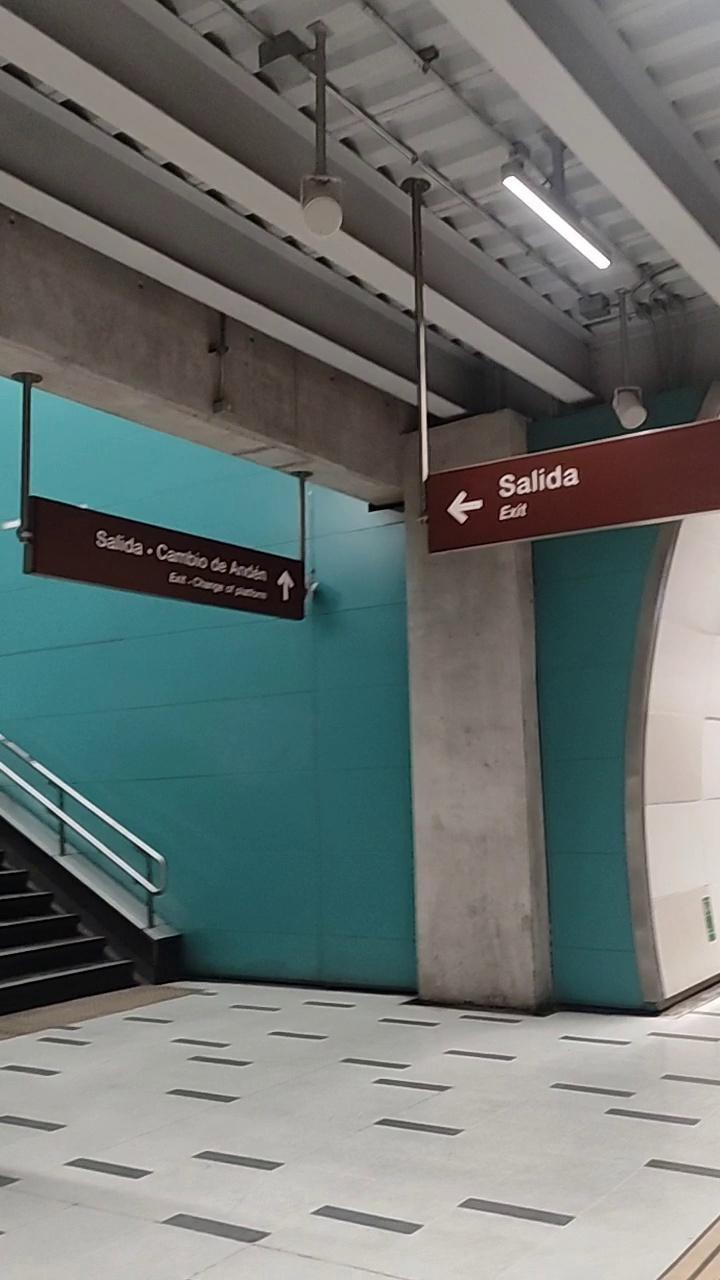left arrow: (442, 482, 489, 536)
up arrow: (274, 568, 303, 606)
